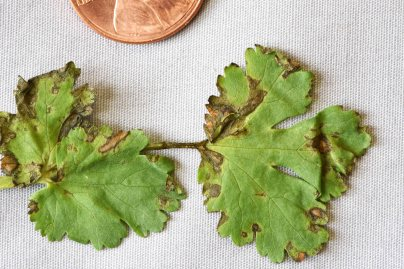unhealthy: (189, 66, 381, 262), (17, 70, 176, 251)
